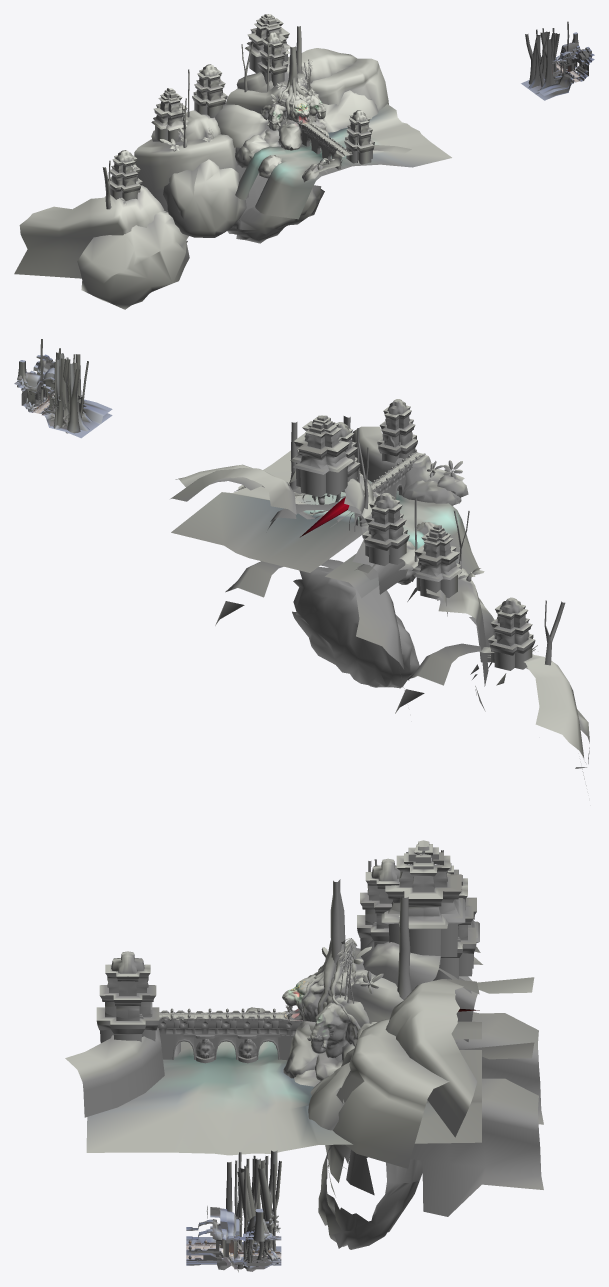
Rendered from intro_pack.glb.
3 views of the same model, one above another, from view 1: azimuth 30°, elevation 25°; view 2: azimuth 150°, elevation 25°; view 3: azimuth 270°, elevation 25° (orthographic). The views are drawn at different scales.
Visible parts, largest first — view 1: Jungle_Intro_Temple_Opening_Terrain, Jungle_Intro_Temple_Opening_Towers, Jungle_Intro_Temple_Opening_Water, Jungle_Intro_Temple_Opening_Trees, Jungle_Intro_Temple_Opening, Jungle_Ground_Straight_Organic_A, Jungle_Ground_Straight_E, Jungle_Intro_Temple_Opening_Bridge, Jungle_Intro_Temple_Opening_Plants, Jungle_Ground_Straight_B, Jungle_Ground_Straight_A; view 2: Jungle_Intro_Temple_Opening_Terrain, Jungle_Intro_Temple_Opening_Towers, Jungle_Intro_Temple_Opening_Water, Jungle_Intro_Temple_Opening_Trees, Jungle_Intro_Temple_Opening_Bridge, Jungle_Ground_Straight_Organic_A, Jungle_Ground_Straight_B, Jungle_Ground_Straight_E, Jungle_Ground_Straight_A, Jungle_Ground_Straight_D; view 3: Jungle_Intro_Temple_Opening_Terrain, Jungle_Intro_Temple_Opening_Water, Jungle_Intro_Temple_Opening_Towers, Jungle_Intro_Temple_Opening_Bridge, Jungle_Intro_Temple_Opening, Jungle_Intro_Temple_Opening_Trees, Jungle_Ground_Straight_Organic_A, Jungle_Ground_Straight_E, Jungle_Ground_Straight_D, Jungle_Intro_Temple_Opening_Plants, Jungle_Ground_Straight_B, Jungle_Ground_Straight_Short_B (+1 smaller).
Boxes of the visible parts, box(x1,y1,x2,y2) form: Jungle_Intro_Temple_Opening_Terrain: box(14, 48, 411, 309); Jungle_Intro_Temple_Opening_Towers: box(109, 14, 374, 200); Jungle_Intro_Temple_Opening_Water: box(235, 104, 451, 219); Jungle_Intro_Temple_Opening_Trees: box(102, 26, 314, 209); Jungle_Intro_Temple_Opening: box(260, 85, 325, 130); Jungle_Ground_Straight_Organic_A: box(521, 32, 594, 95); Jungle_Ground_Straight_E: box(536, 21, 594, 100); Jungle_Intro_Temple_Opening_Bridge: box(296, 121, 351, 169); Jungle_Intro_Temple_Opening_Plants: box(119, 59, 334, 204); Jungle_Ground_Straight_B: box(525, 34, 580, 84); Jungle_Ground_Straight_A: box(528, 33, 579, 88); Jungle_Intro_Temple_Opening_Terrain: box(170, 426, 589, 785); Jungle_Intro_Temple_Opening_Towers: box(290, 399, 535, 670); Jungle_Intro_Temple_Opening_Water: box(171, 449, 479, 600); Jungle_Intro_Temple_Opening_Trees: box(289, 416, 565, 665); Jungle_Intro_Temple_Opening_Bridge: box(330, 449, 425, 531); Jungle_Ground_Straight_Organic_A: box(22, 353, 112, 438); Jungle_Ground_Straight_B: box(17, 357, 80, 433); Jungle_Ground_Straight_E: box(14, 339, 112, 423); Jungle_Ground_Straight_A: box(19, 354, 89, 433); Jungle_Ground_Straight_D: box(17, 352, 88, 431); Jungle_Intro_Temple_Opening_Terrain: box(65, 940, 543, 1249); Jungle_Intro_Temple_Opening_Water: box(86, 1021, 481, 1155); Jungle_Intro_Temple_Opening_Towers: box(96, 840, 479, 1042); Jungle_Intro_Temple_Opening_Bridge: box(157, 1008, 302, 1063); Jungle_Intro_Temple_Opening: box(282, 962, 360, 1057); Jungle_Intro_Temple_Opening_Trees: box(301, 850, 443, 1053); Jungle_Ground_Straight_Organic_A: box(186, 1159, 281, 1272); Jungle_Ground_Straight_E: box(186, 1158, 281, 1268); Jungle_Ground_Straight_D: box(233, 1152, 281, 1269); Jungle_Intro_Temple_Opening_Plants: box(289, 938, 383, 1013); Jungle_Ground_Straight_B: box(235, 1150, 280, 1269); Jungle_Ground_Straight_Short_B: box(257, 1161, 281, 1262).
Size of what is drawn, in the model's own units: 243 by 114 by 101.
